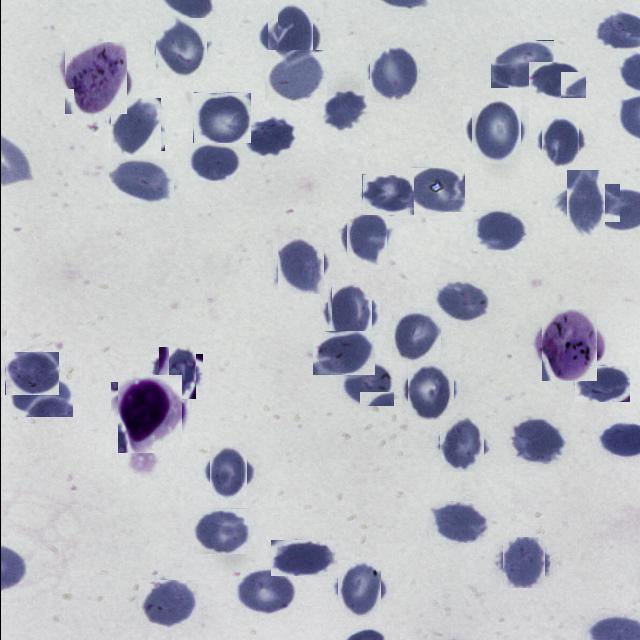difficult: (536, 313, 600, 377)
leukocyte: (114, 378, 186, 449)
red blood cell: (466, 102, 524, 160), (264, 50, 326, 101), (152, 20, 208, 76), (489, 40, 553, 88), (262, 10, 318, 64), (192, 92, 250, 144), (366, 47, 420, 101), (108, 99, 162, 153), (234, 569, 296, 616), (558, 177, 612, 230), (108, 159, 173, 203), (138, 580, 197, 628), (389, 309, 442, 361), (404, 364, 457, 416), (312, 331, 374, 375), (192, 508, 251, 554), (323, 286, 375, 338), (274, 240, 326, 292), (509, 418, 566, 464), (333, 564, 384, 615), (11, 375, 72, 417), (408, 168, 466, 212), (436, 419, 486, 469), (339, 360, 393, 406), (428, 501, 487, 543), (434, 280, 492, 322), (4, 351, 58, 395), (270, 540, 334, 576), (499, 538, 546, 586), (472, 210, 526, 251), (342, 215, 389, 262), (527, 61, 585, 98), (361, 174, 413, 215), (536, 118, 582, 164), (204, 450, 250, 496), (573, 365, 629, 402), (187, 142, 240, 181), (154, 350, 198, 396), (318, 90, 368, 130), (244, 118, 294, 158)
trophozoite: (62, 45, 128, 112)
